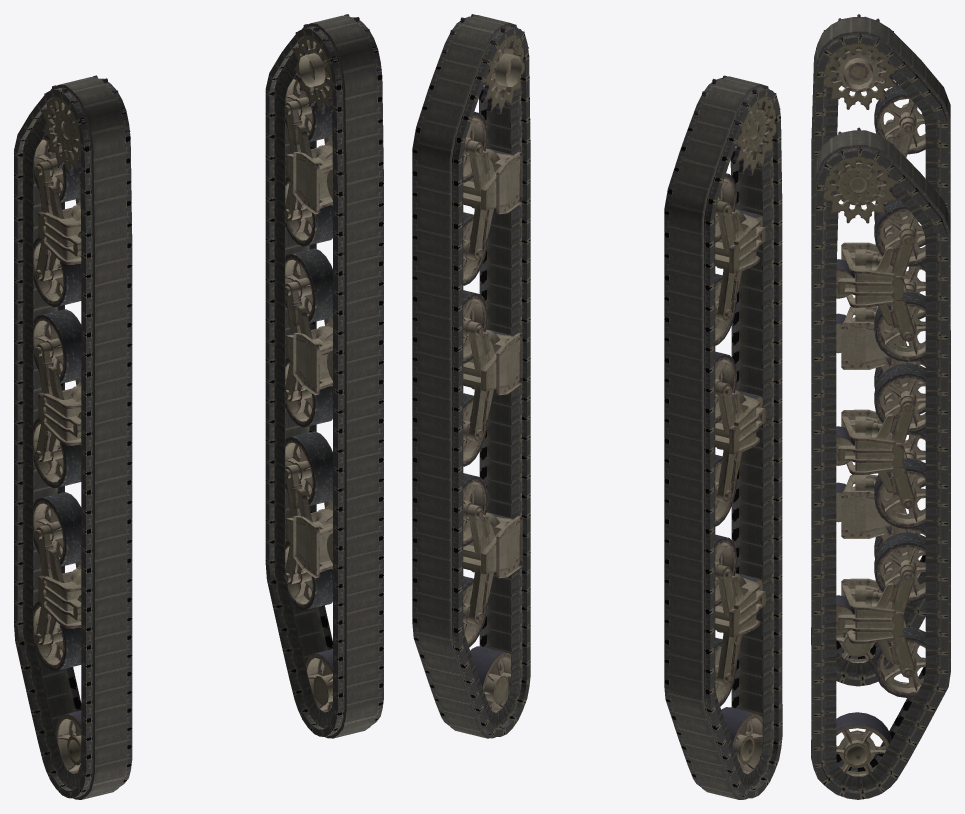
File: Chassis.glb
3 views of the same model, side by side, from view 1: azimuth 30°, elevation 25°; view 2: azimuth 150°, elevation 25°; view 3: azimuth 270°, elevation 25° (orthographic). The views are drawn at different scales.
Parts seen in each view (by area): view 1: set_1_group_0, set_0_group_0, set_3_group_0, set_2_group_0; view 2: set_1_group_0, set_0_group_0, set_3_group_0, set_2_group_0; view 3: set_0_group_0, set_3_group_0, set_2_group_0, set_1_group_0.
Part boxes in pixels (<box>): set_1_group_0: <box>14,77,132,799</box>; set_0_group_0: <box>265,15,383,738</box>; set_3_group_0: <box>284,14,381,712</box>; set_2_group_0: <box>33,75,130,773</box>; set_1_group_0: <box>664,76,782,799</box>; set_0_group_0: <box>412,15,530,738</box>; set_3_group_0: <box>442,14,528,712</box>; set_2_group_0: <box>694,75,780,773</box>; set_0_group_0: <box>811,130,950,799</box>; set_3_group_0: <box>816,127,925,776</box>; set_2_group_0: <box>816,14,925,662</box>; set_1_group_0: <box>811,16,950,686</box>.
Bounding box in the file's own units: 2.53 × 5.76 × 1.11.
Materials: 4 (4 with a texture image).
